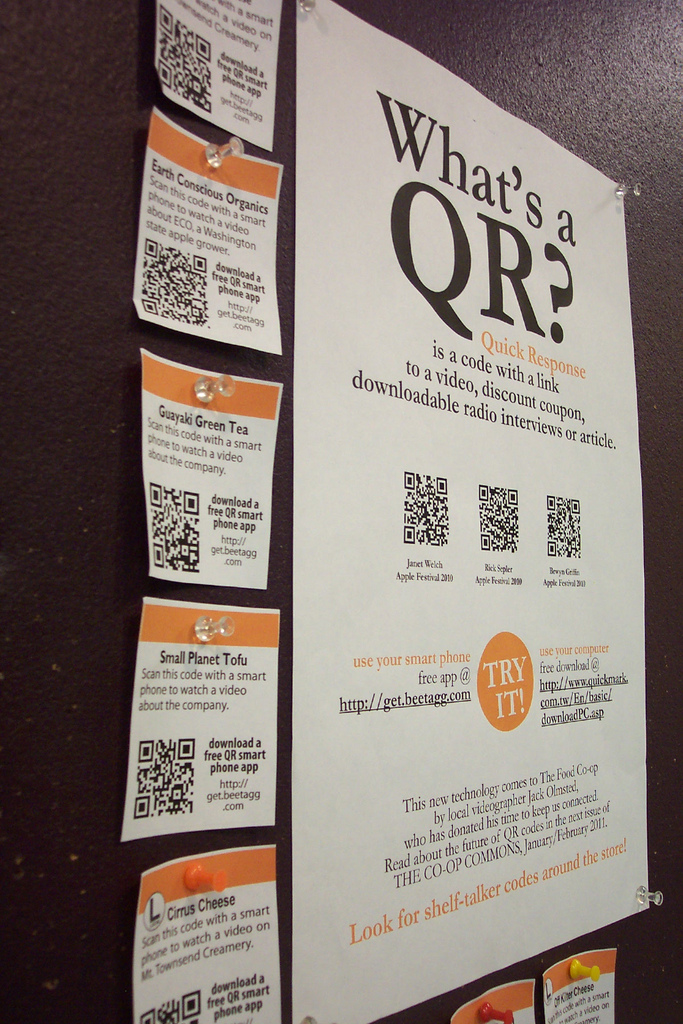QR-CODE: (141, 237, 210, 328), (157, 2, 211, 114), (133, 738, 194, 819), (149, 481, 199, 572), (403, 471, 448, 546), (479, 484, 518, 553), (547, 495, 580, 558), (139, 989, 200, 1023)
